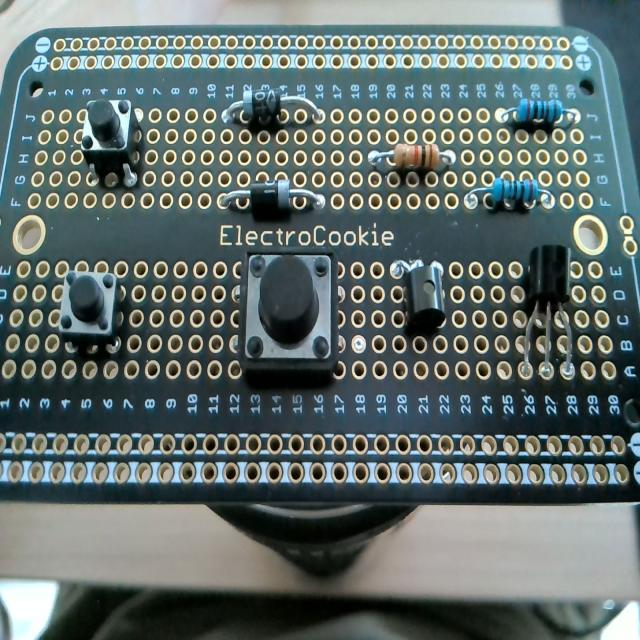diode: (221, 86, 326, 127), (219, 179, 326, 215), (366, 143, 454, 183)
resistor: (464, 174, 551, 210), (514, 98, 566, 124)
switch: (240, 250, 338, 373), (79, 96, 142, 187), (56, 267, 120, 345)
transistor: (524, 239, 582, 377), (382, 251, 450, 335)
